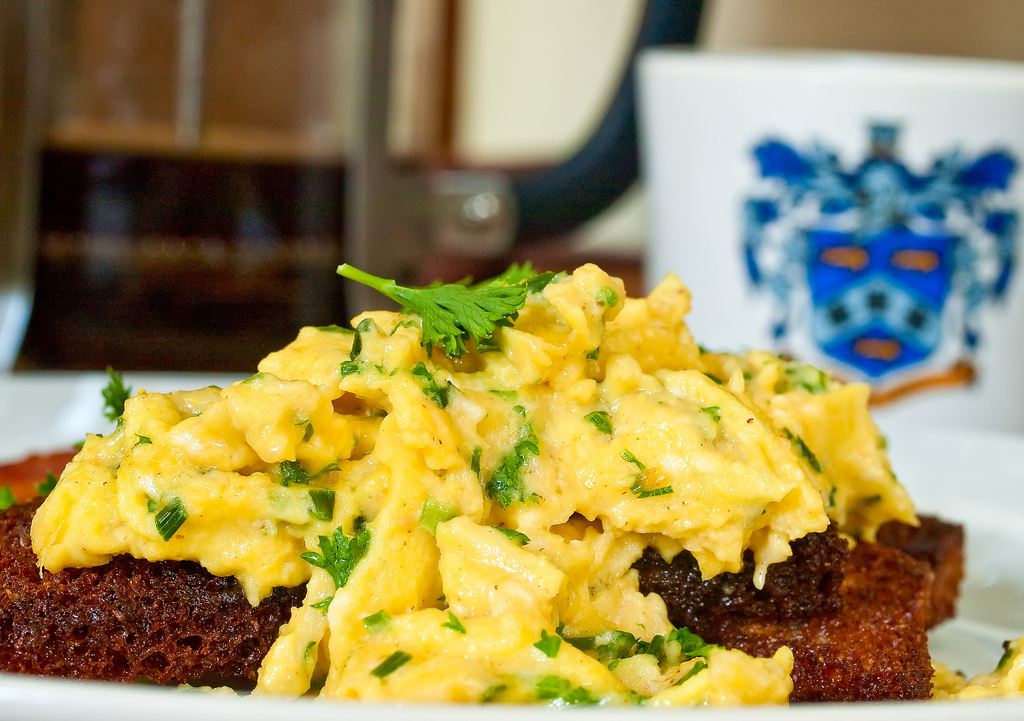slice of bread: (32, 560, 952, 647)
